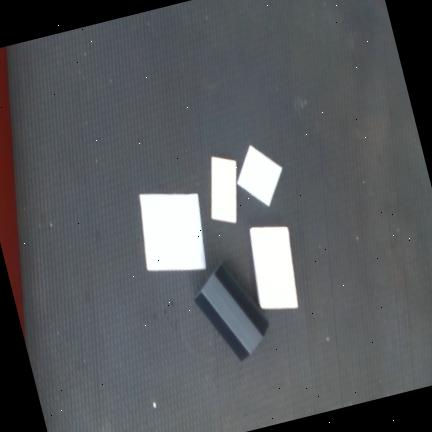Paralelepipedo: (249, 226, 298, 309), (211, 156, 237, 223)
Piramide: (138, 193, 206, 271), (236, 144, 282, 207)
Prisma_hexagonal: (193, 262, 270, 361)
